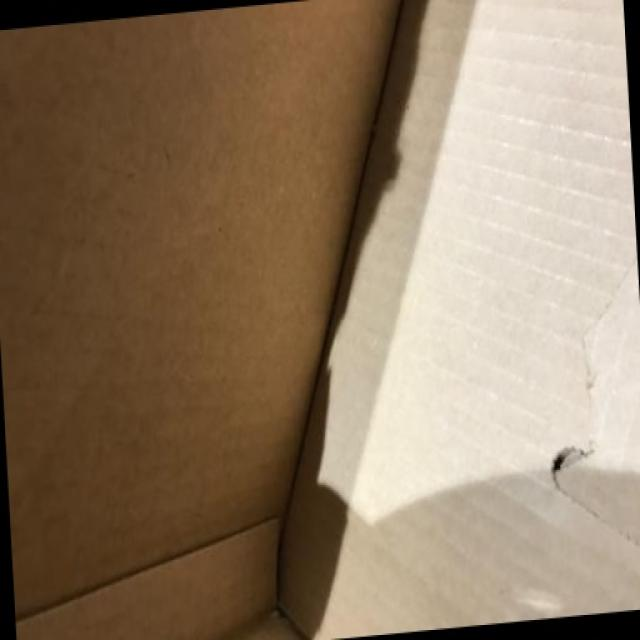carton: (9, 9, 640, 639)
